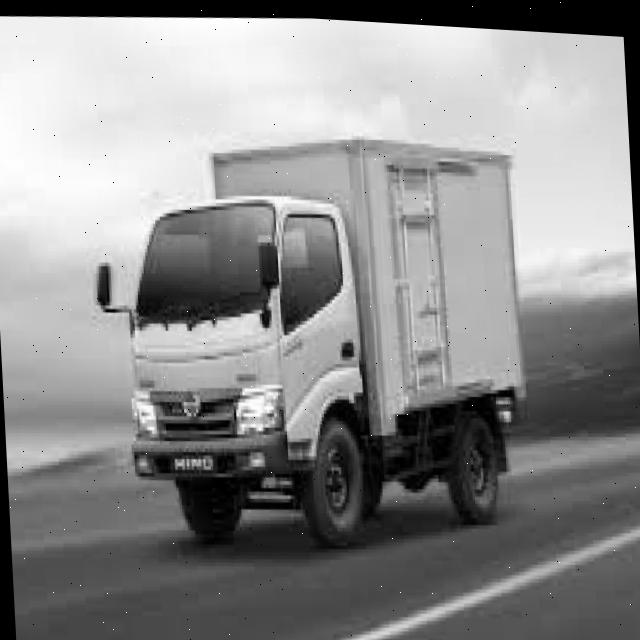truck: (85, 147, 396, 568)
